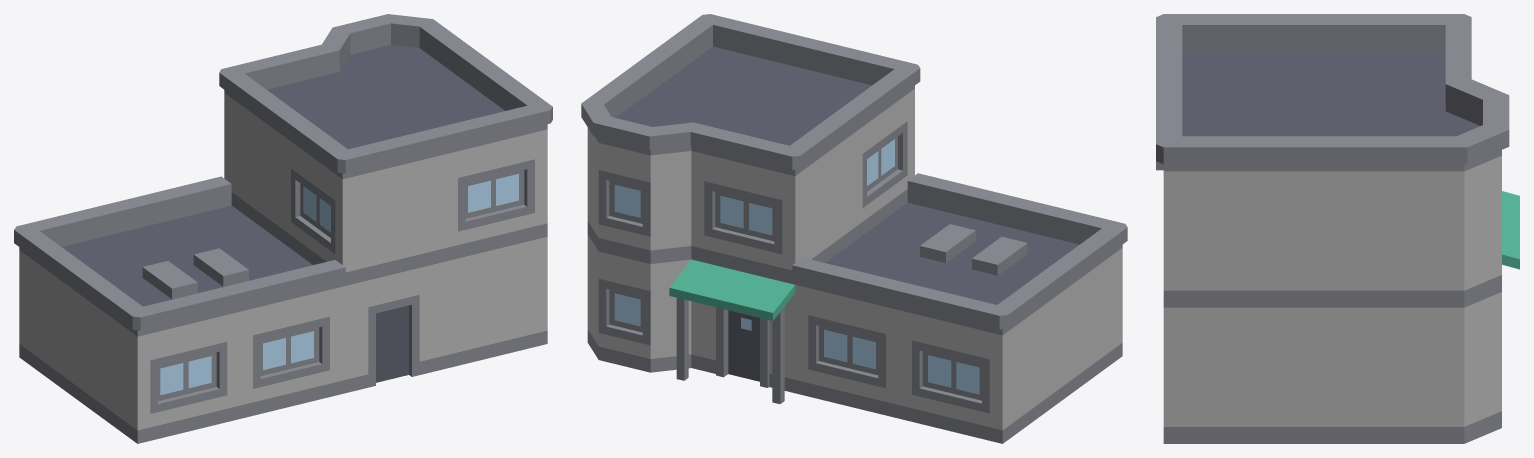
Rendered from small_building.glb.
The picture shows the model from 3 angles, left to right: view 1: azimuth 30°, elevation 25°; view 2: azimuth 150°, elevation 25°; view 3: azimuth 270°, elevation 25°; orthographic projection. The views are drawn at different scales.
Visible parts, largest first — view 1: small_buildingE; view 2: small_buildingE; view 3: small_buildingE.
Part boxes in pixels (x1,y1,x2,y2): small_buildingE: [14, 14, 552, 443]; small_buildingE: [581, 14, 1127, 443]; small_buildingE: [1156, 14, 1519, 443].
Size of the model in its own units: 1.64 by 0.88 by 0.9679.
